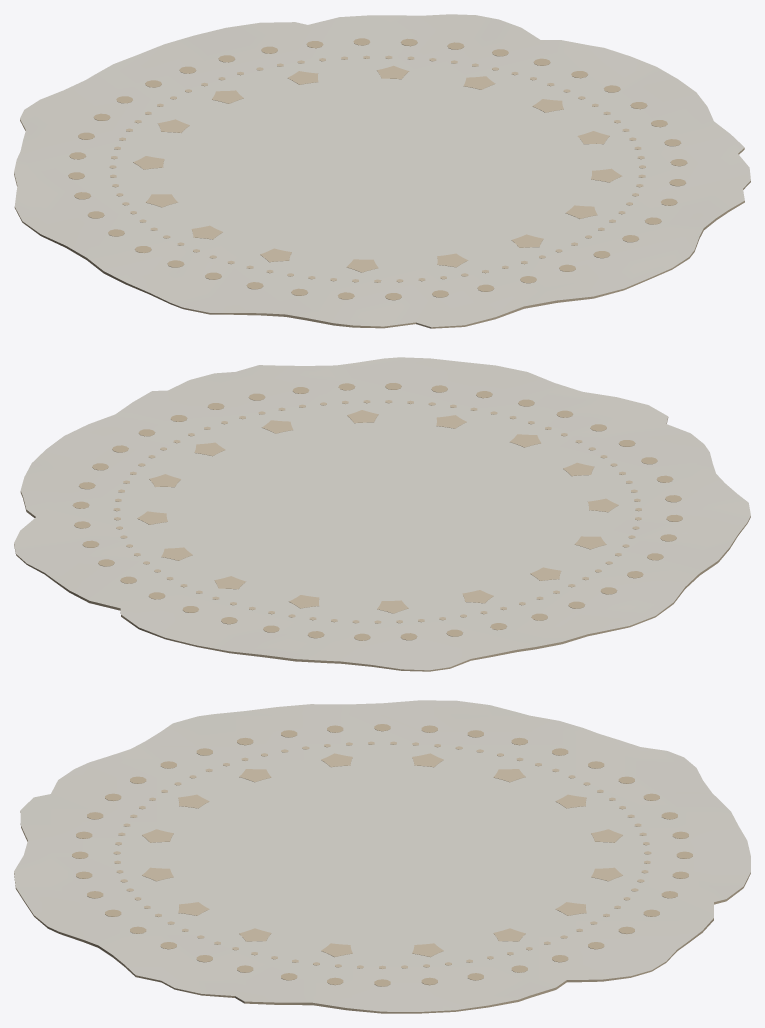
The model's file is cloth_lace.glb.
3 views of the same model, one above another, from view 1: azimuth 30°, elevation 25°; view 2: azimuth 150°, elevation 25°; view 3: azimuth 270°, elevation 25° (orthographic).
Visible parts, largest first — view 1: body; view 2: body; view 3: body.
Boxes of the visible parts, x1,y1,x2,y2 form: body: [14, 14, 750, 328]; body: [14, 357, 750, 671]; body: [14, 700, 750, 1013].
Bounding box in the file's own units: 3 × 0.0121 × 3.
